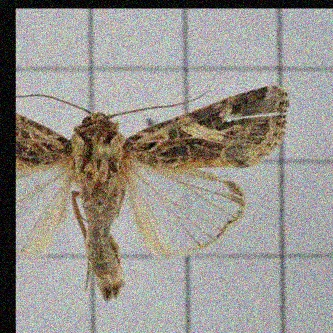Spodoptera litura: (16, 84, 289, 303)
